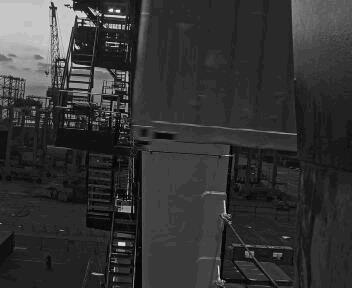twist_lock_1: (114, 159, 153, 194)
